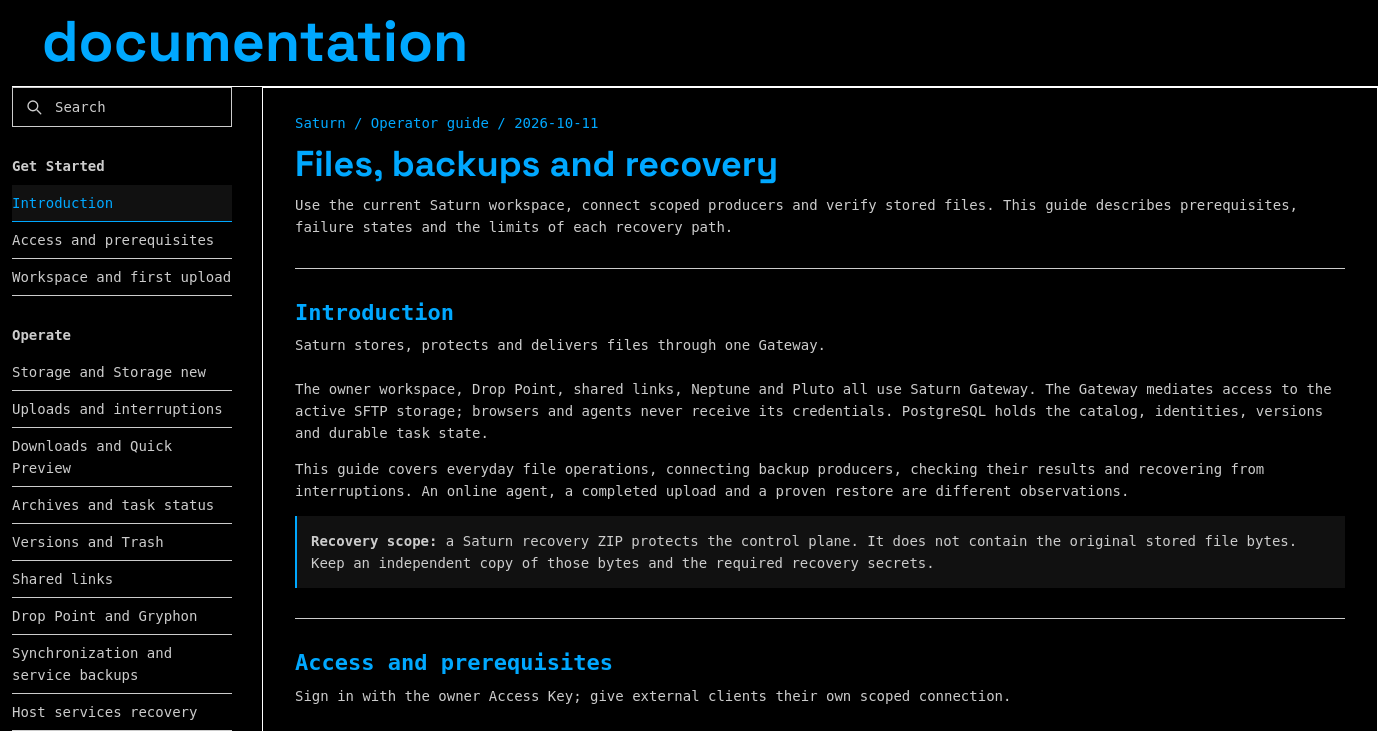
Saturn operator documentation › filters rendered body text immediately, preserves typed query and omits empty groups
In the search field named "Search documentation": (115, 106) [55,88,175,124], type "  DPAPI  "
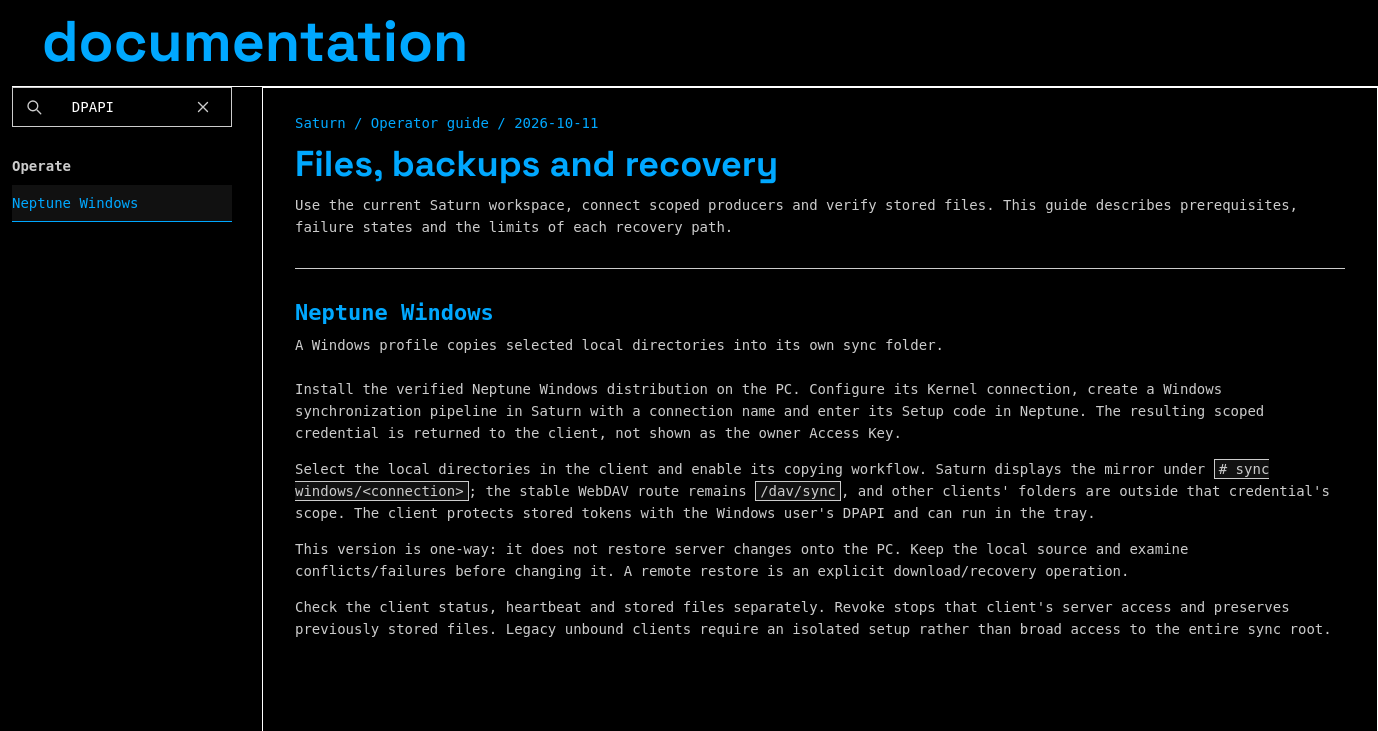
Expected: the button "Neptune Windows" is shown, [12,184,232,222]
Now the text "Get Started" is gone
